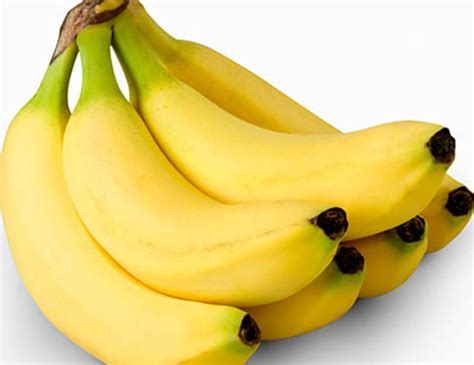banana: (1, 78, 264, 365), (59, 85, 350, 307), (128, 67, 460, 238)
